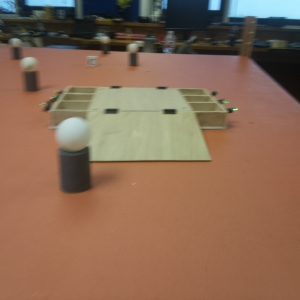obstacle: (57, 114, 97, 192), (21, 57, 37, 95), (10, 38, 22, 58), (128, 44, 138, 66)
side: (188, 86, 238, 131), (41, 84, 87, 120)
slope: (86, 109, 207, 177)
